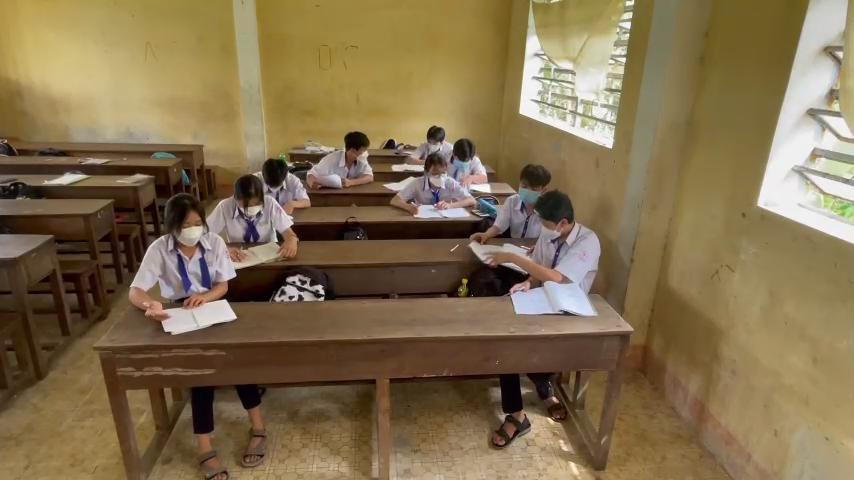Look Around: (524, 186, 579, 243), (335, 123, 372, 165)
Wave: (475, 245, 598, 285)
